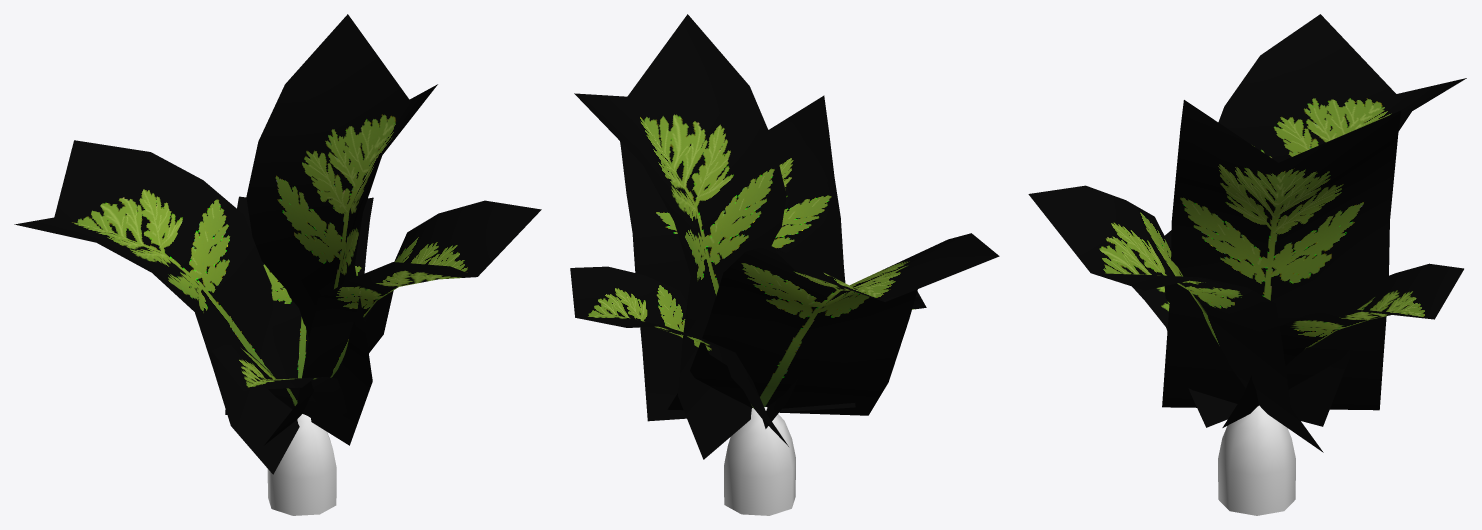
3 views of the same model, side by side, from view 1: azimuth 30°, elevation 25°; view 2: azimuth 150°, elevation 25°; view 3: azimuth 270°, elevation 25° (orthographic). The views are drawn at different scales.
Parts seen in each view (by area): view 1: 萝卜02; view 2: 萝卜02; view 3: 萝卜02.
Part boxes in pixels (left/top/right/bottom): 萝卜02: left=14, top=14, right=541, bottom=515; 萝卜02: left=570, top=14, right=999, bottom=515; 萝卜02: left=1028, top=14, right=1466, bottom=515.
Bounding box in the file's own units: 52.09 × 46.4 × 40.63.
2 materials, 1 textured.
